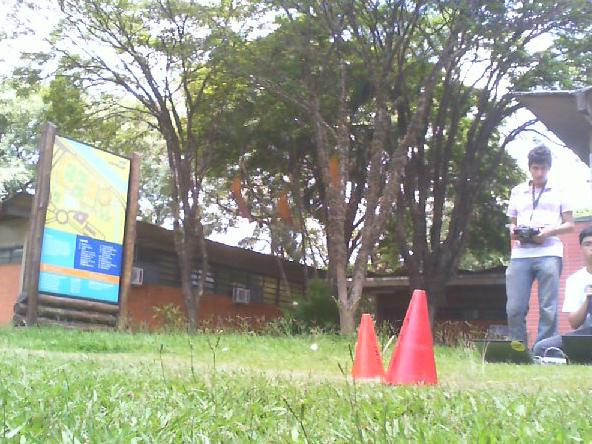0 cone: (381, 290, 442, 387), (347, 313, 384, 381)
